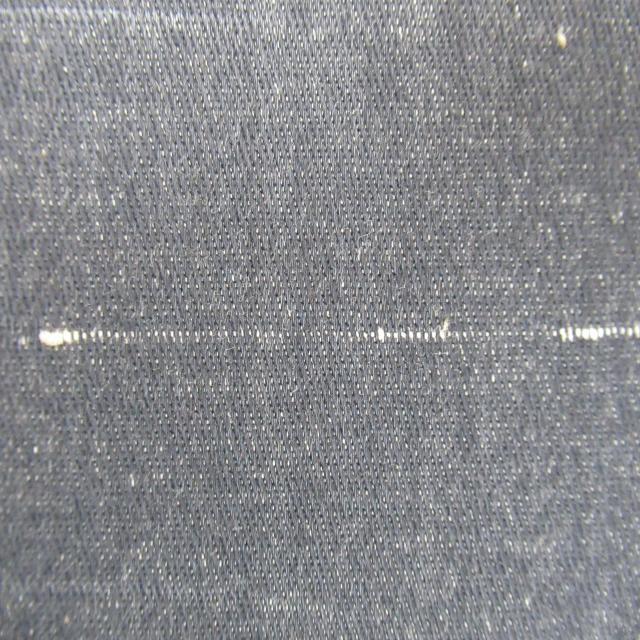Warp_Weft: (33, 322, 640, 349)
